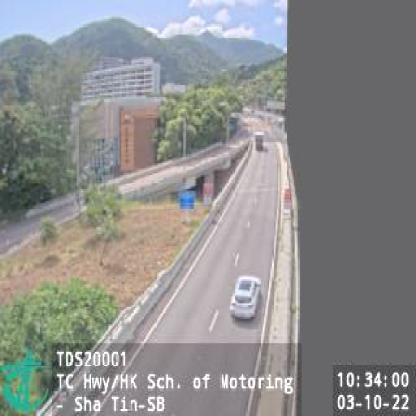Car: (230, 274, 260, 319)
Truck: (254, 130, 262, 149)
